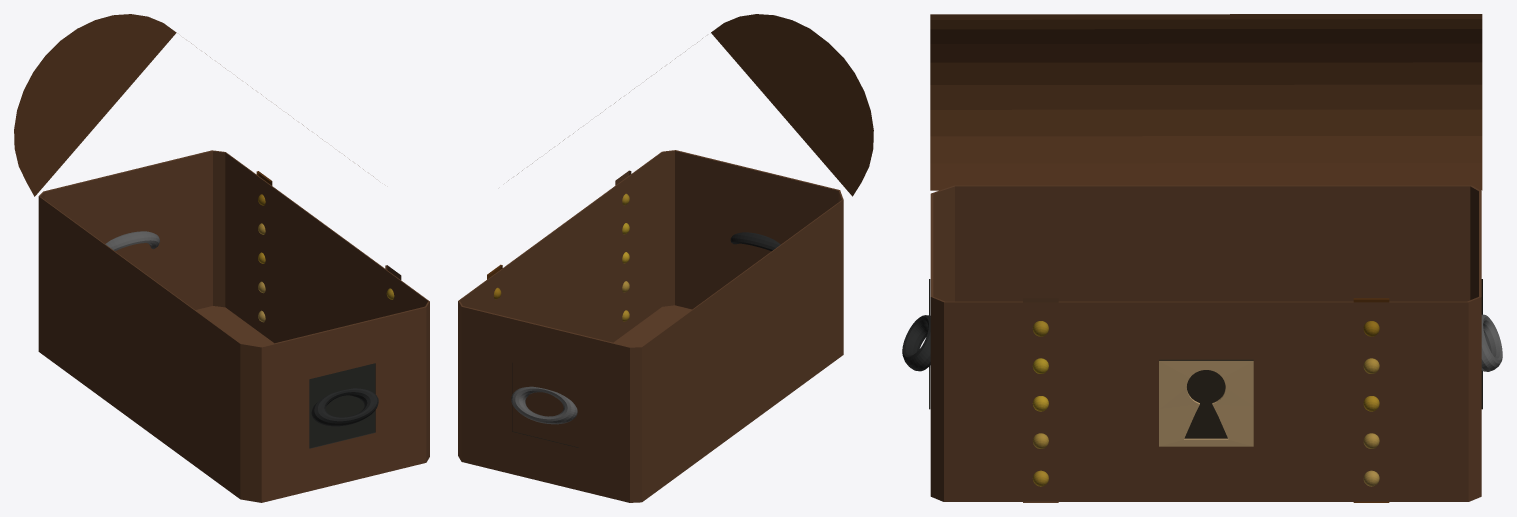
File: chestLong.fbx
The picture shows the model from 3 angles, left to right: view 1: azimuth 30°, elevation 25°; view 2: azimuth 150°, elevation 25°; view 3: azimuth 270°, elevation 25°; orthographic projection. The views are drawn at different scales.
Visible parts, largest first — view 1: ChestBottom, ChestTop, HandleBaseLeft, HandleRight, HandleLeft; view 2: ChestBottom, ChestTop, HandleLeft, HandleRight; view 3: ChestBottom, ChestTop, LockTop, LockBottom, LockBody, HandleRight, HandleLeft.
Boxes of the visible parts, bbox=[...] form: ChestBottom: bbox=[38, 150, 429, 502]; ChestTop: bbox=[14, 14, 373, 196]; HandleBaseLeft: bbox=[309, 363, 375, 448]; HandleRight: bbox=[311, 388, 378, 426]; HandleLeft: bbox=[105, 231, 159, 250]; ChestBottom: bbox=[458, 150, 843, 502]; ChestTop: bbox=[508, 14, 873, 196]; HandleLeft: bbox=[511, 386, 577, 424]; HandleRight: bbox=[730, 232, 780, 251]; ChestBottom: bbox=[930, 185, 1481, 501]; ChestTop: bbox=[930, 14, 1482, 190]; LockTop: bbox=[1159, 361, 1253, 409]; LockBottom: bbox=[1159, 404, 1253, 446]; LockBody: bbox=[1159, 359, 1253, 438]; HandleRight: bbox=[902, 315, 930, 371]; HandleLeft: bbox=[1481, 314, 1502, 371].
Bounding box in the file's own units: 230 × 324 × 436.
